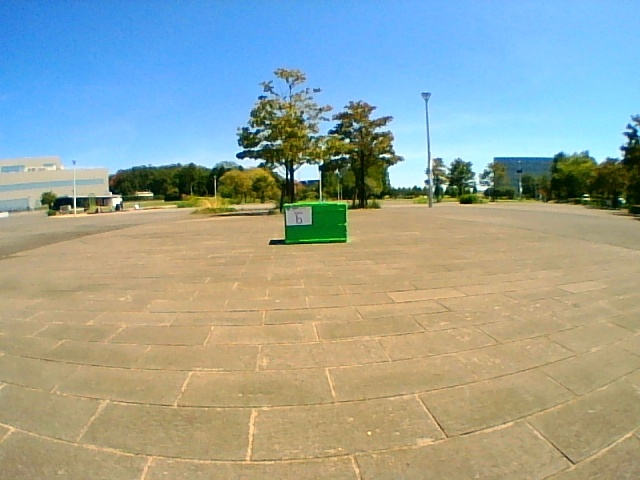green_box: (283, 202, 346, 242)
tag_b: (287, 208, 310, 224)
